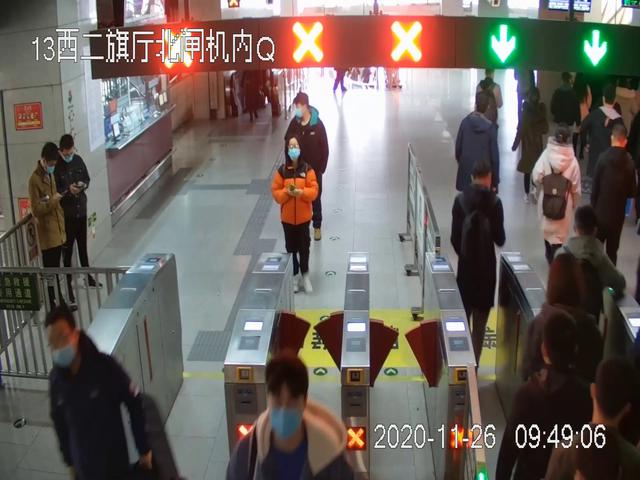person: (44, 306, 182, 480), (546, 207, 627, 375), (451, 160, 505, 382), (531, 125, 584, 272), (271, 134, 319, 293), (55, 135, 103, 290), (592, 121, 640, 271), (30, 141, 71, 309), (286, 92, 329, 240), (454, 92, 499, 233), (512, 85, 545, 202), (551, 70, 581, 168)
